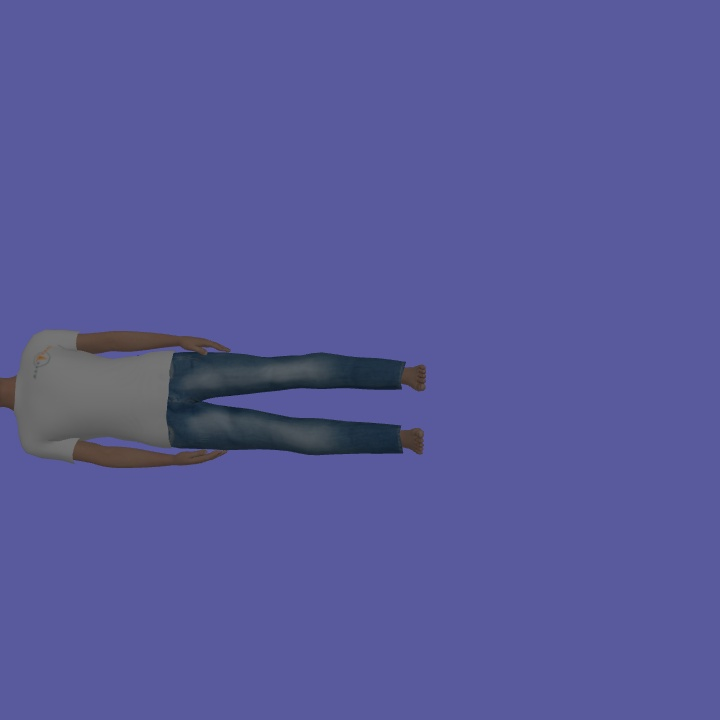victim: (1, 326, 428, 470)
